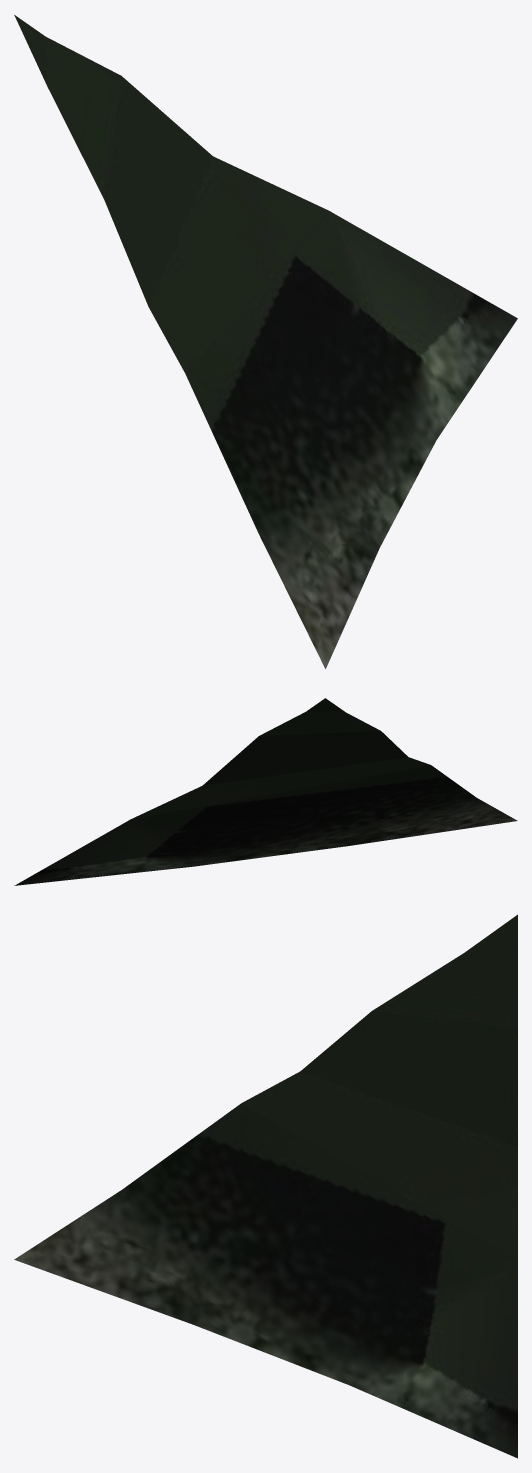
3 renders of one model, top to bottom at view 1: azimuth 30°, elevation 25°; view 2: azimuth 150°, elevation 25°; view 3: azimuth 270°, elevation 25°, orthographic. The views are drawn at different scales.
Size of the model in its own units: 4.09 by 3.31 by 4.38.
1 material, 1 textured.
